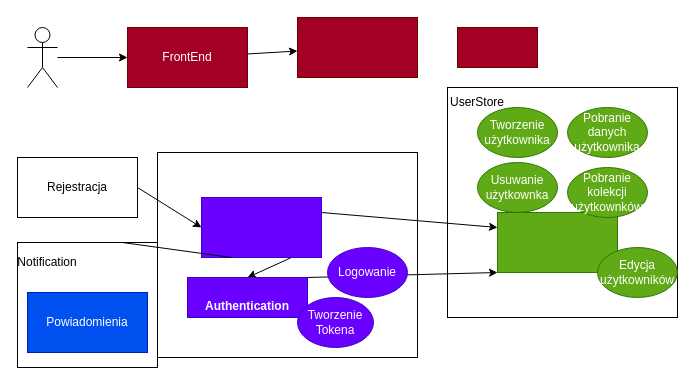
This 695x385 diagram has some shape labels left out. The shapes that lost their labels are listed below. From the top down, each one's centre as x and y in pixels, then its label:
At pixel 42 57: "Actor".
At pixel 357 47: "Gatway".
At pixel 497 47: "Niie uwzgldniony w tej chwili".
At pixel 261 227: "Potwierdzene rejestracji".
At pixel 557 242: "Dane Użytkowników".
